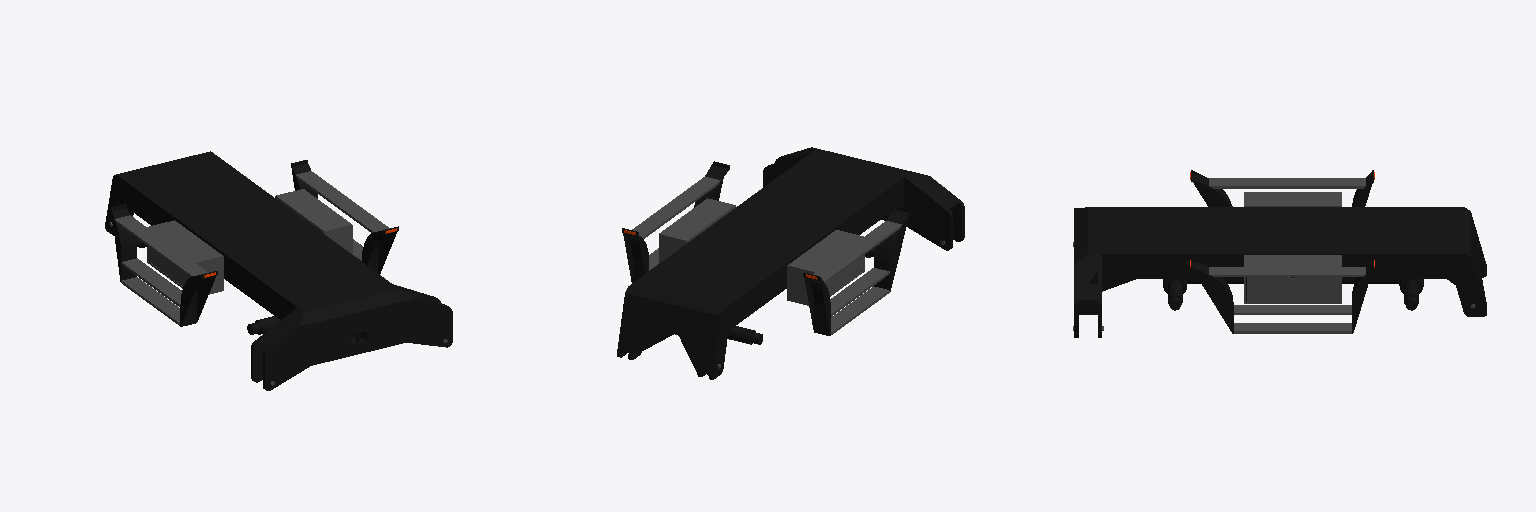
The model's file is ExUndercarriage.obj.
3 renders of one model, left to right at view 1: azimuth 30°, elevation 25°; view 2: azimuth 150°, elevation 25°; view 3: azimuth 270°, elevation 25°, orthographic.
Visible parts, largest first — view 1: Mesh8 Group8 Group1 Model, Mesh10 Group12 Group11 Group1 Model, Mesh5 G_03_2 Group4 Group1 Model, Mesh4 G_03_1 Group4 Group1 Model, Mesh7 G_06_2 Group7 Group5 Group1 Model, Mesh6 G_06_1 Group6 Group5 Group1 Model, Mesh9 Group10 Group9 Group1 Model; view 2: Mesh8 Group8 Group1 Model, Mesh9 Group10 Group9 Group1 Model, Mesh10 Group12 Group11 Group1 Model, Mesh5 G_03_2 Group4 Group1 Model, Mesh4 G_03_1 Group4 Group1 Model, Mesh7 G_06_2 Group7 Group5 Group1 Model, Mesh6 G_06_1 Group6 Group5 Group1 Model; view 3: Mesh8 Group8 Group1 Model, Mesh10 Group12 Group11 Group1 Model, Mesh4 G_03_1 Group4 Group1 Model, Mesh6 G_06_1 Group6 Group5 Group1 Model, Mesh9 Group10 Group9 Group1 Model, Mesh5 G_03_2 Group4 Group1 Model, Mesh7 G_06_2 Group7 Group5 Group1 Model, Mesh3 G_12_2 Group2 Group1 Model, Mesh2 G_12_1 Group2 Group1 Model.
Boxes of the visible parts, x1,y1,x2,y2 form: Mesh8 Group8 Group1 Model: [125, 158, 373, 318]; Mesh10 Group12 Group11 Group1 Model: [251, 271, 452, 390]; Mesh5 G_03_2 Group4 Group1 Model: [110, 204, 217, 326]; Mesh4 G_03_1 Group4 Group1 Model: [291, 160, 398, 274]; Mesh7 G_06_2 Group7 Group5 Group1 Model: [147, 220, 223, 294]; Mesh6 G_06_1 Group6 Group5 Group1 Model: [275, 189, 352, 254]; Mesh9 Group10 Group9 Group1 Model: [105, 151, 219, 235]; Mesh8 Group8 Group1 Model: [638, 167, 886, 327]; Mesh9 Group10 Group9 Group1 Model: [617, 280, 731, 379]; Mesh10 Group12 Group11 Group1 Model: [763, 147, 964, 250]; Mesh5 G_03_2 Group4 Group1 Model: [803, 206, 910, 335]; Mesh4 G_03_1 Group4 Group1 Model: [622, 161, 729, 282]; Mesh7 G_06_2 Group7 Group5 Group1 Model: [787, 230, 864, 305]; Mesh6 G_06_1 Group6 Group5 Group1 Model: [659, 198, 735, 263]; Mesh8 Group8 Group1 Model: [1137, 207, 1445, 278]; Mesh10 Group12 Group11 Group1 Model: [1073, 207, 1136, 337]; Mesh4 G_03_1 Group4 Group1 Model: [1190, 258, 1374, 333]; Mesh6 G_06_1 Group6 Group5 Group1 Model: [1244, 255, 1341, 303]; Mesh9 Group10 Group9 Group1 Model: [1446, 207, 1486, 316]; Mesh5 G_03_2 Group4 Group1 Model: [1190, 170, 1374, 206]; Mesh7 G_06_2 Group7 Group5 Group1 Model: [1244, 192, 1341, 206]; Mesh3 G_12_2 Group2 Group1 Model: [1399, 279, 1423, 310]; Mesh2 G_12_1 Group2 Group1 Model: [1163, 279, 1186, 310].
Bounding box in the file's own units: 2.45 × 0.8984 × 4.45.